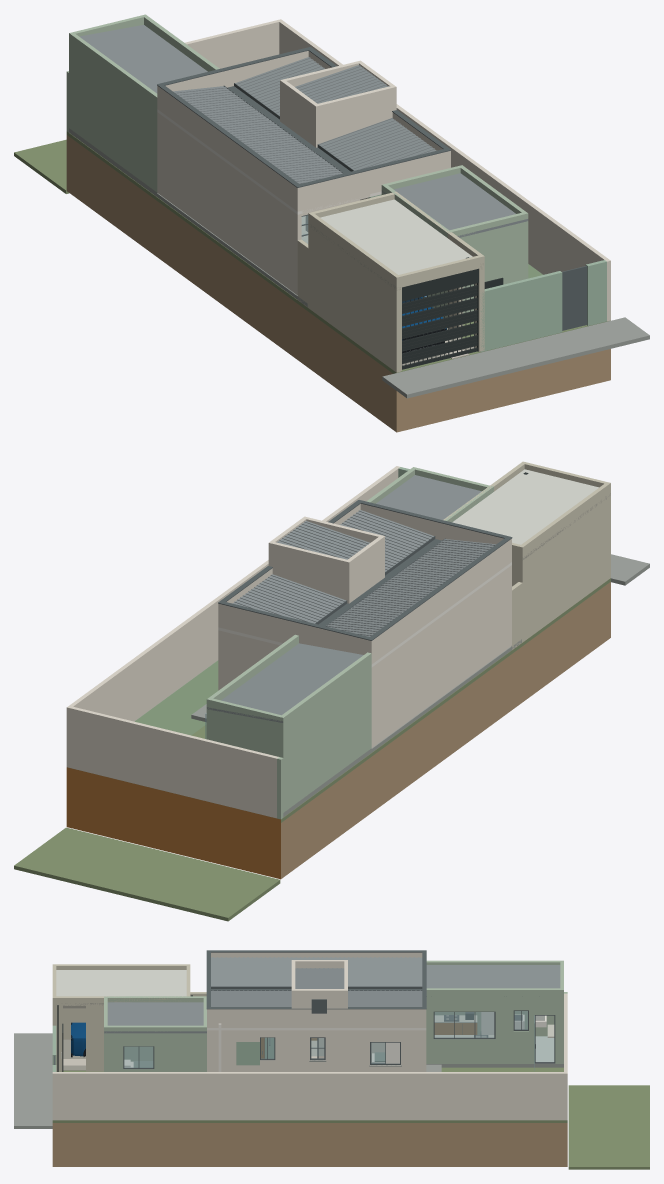
The model's file is casa-bp-garagem-laje.glb.
3 renders of one model, top to bottom at view 1: azimuth 30°, elevation 25°; view 2: azimuth 150°, elevation 25°; view 3: azimuth 270°, elevation 25°, orthographic. The views are drawn at different scales.
Parts seen in each view (by area): view 1: Solo em corte esquemático — perfil lateral não levantado, Parede cega / divisa do desenho, Garagem — fechamento lateral proposto; apoios independentes , Fundos — fechamento esquerdo proposto, Passeio público — contexto ilustrativo, Fechamento frontal com acessos sugeridos (×2), Garagem — camada ilustrativa de impermeabilização e caimento, Muro lateral direito do desenho — 2,00 m, Platibanda frente / fundo (×2), Volume elevado caixa d’água (×2), Pano 1 — social, Fundos — cobertura independente ilustrativa (+23 smaller); view 2: Solo em corte esquemático — perfil lateral não levantado, Face indicativa de contenção — 2 m estimados; seção e fundaç, Muro fundos — 2,00 m sobre terreno, Referência do nível do vizinho — extensão apenas ilustrativa, Parede cega / divisa do desenho, Muro lateral direito do desenho — 2,00 m, Garagem — fechamento lateral proposto; apoios independentes , Fundos — fechamento esquerdo proposto, Garagem — camada ilustrativa de impermeabilização e caimento, Fundos — cobertura independente ilustrativa, Platibanda frente / fundo (×2), Volume elevado caixa d’água (×2) (+19 smaller); view 3: Muro lateral direito do desenho — 2,00 m, Solo em corte esquemático — perfil lateral não levantado, Referência do nível do vizinho — extensão apenas ilustrativa, Lateral existente — só janela do quarto reorganizada em A (×5), Platibanda lateral (×2), Pano 1 — social, Passeio público — contexto ilustrativo, Garagem — camada ilustrativa de impermeabilização e caimento, Fundos — fechamento direito da cozinha (×4), Fundos — cobertura independente ilustrativa, Suíte ampliada — lateral para o corredor (×3), Suíte ampliada — cobertura ilustrativa (+23 smaller).
Boxes of the visible parts, bbox=[...] form: Solo em corte esquemático — perfil lateral não levantado: bbox=[66, 135, 610, 432]; Parede cega / divisa do desenho: bbox=[157, 112, 301, 294]; Garagem — fechamento lateral proposto; apoios independentes : bbox=[308, 223, 400, 372]; Fundos — fechamento esquerdo proposto: bbox=[69, 48, 157, 192]; Passeio público — contexto ilustrativo: bbox=[382, 317, 649, 398]; Fechamento frontal com acessos sugeridos (×2): bbox=[480, 260, 606, 351]; Garagem — camada ilustrativa de impermeabilização e caimento: bbox=[320, 199, 472, 274]; Muro lateral direito do desenho — 2,00 m: bbox=[277, 19, 610, 321]; Platibanda frente / fundo (×2): bbox=[165, 51, 446, 210]; Volume elevado caixa d’água (×2): bbox=[280, 79, 392, 147]; Pano 1 — social: bbox=[173, 86, 342, 183]; Fundos — cobertura independente ilustrativa: bbox=[79, 25, 207, 93]; Solo em corte esquemático — perfil lateral não levantado: bbox=[281, 582, 610, 878]; Face indicativa de contenção — 2 m estimados; seção e fundaç: bbox=[66, 767, 280, 879]; Muro fundos — 2,00 m sobre terreno: bbox=[70, 706, 278, 818]; Referência do nível do vizinho — extensão apenas ilustrativa: bbox=[14, 827, 280, 921]; Parede cega / divisa do desenho: bbox=[371, 565, 511, 747]; Muro lateral direito do desenho — 2,00 m: bbox=[66, 466, 399, 767]; Garagem — fechamento lateral proposto; apoios independentes : bbox=[520, 493, 610, 642]; Fundos — fechamento esquerdo proposto: bbox=[279, 668, 371, 812]; Garagem — camada ilustrativa de impermeabilização e caimento: bbox=[452, 469, 598, 544]; Fundos — cobertura independente ilustrativa: bbox=[207, 643, 363, 722]; Platibanda frente / fundo (×2): bbox=[222, 503, 503, 654]; Volume elevado caixa d’água (×2): bbox=[272, 535, 384, 603]; Muro lateral direito do desenho — 2,00 m: bbox=[52, 1072, 567, 1120]; Solo em corte esquemático — perfil lateral não levantado: bbox=[52, 1123, 567, 1166]; Referência do nível do vizinho — extensão apenas ilustrativa: bbox=[568, 1085, 649, 1169]; Lateral existente — só janela do quarto reorganizada em A (×5): bbox=[207, 1030, 426, 1071]; Platibanda lateral (×2): bbox=[207, 952, 426, 1027]; Pano 1 — social: bbox=[211, 957, 422, 986]; Passeio público — contexto ilustrativo: bbox=[14, 1033, 52, 1128]; Garagem — camada ilustrativa de impermeabilização e caimento: bbox=[56, 970, 186, 996]; Fundos — fechamento direito da cozinha (×4): bbox=[426, 1001, 503, 1063]; Fundos — cobertura independente ilustrativa: bbox=[426, 965, 560, 988]; Suíte ampliada — lateral para o corredor (×3): bbox=[104, 1034, 206, 1071]; Suíte ampliada — cobertura ilustrativa: bbox=[104, 1002, 206, 1033].
Size of the model in its own units: 8.5 by 6.68 by 24.7.
